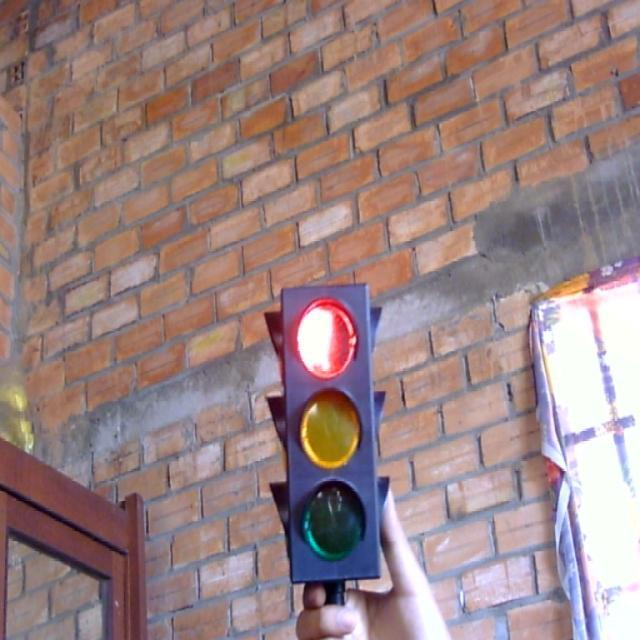red_light: (257, 272, 402, 586)
